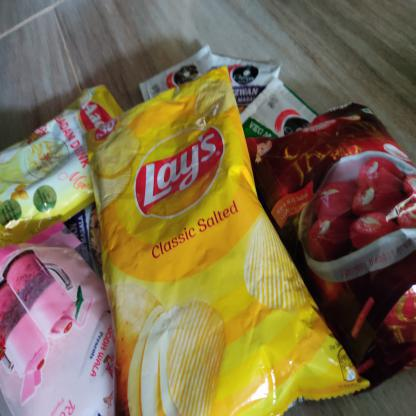classicsalted: (85, 62, 372, 415)
